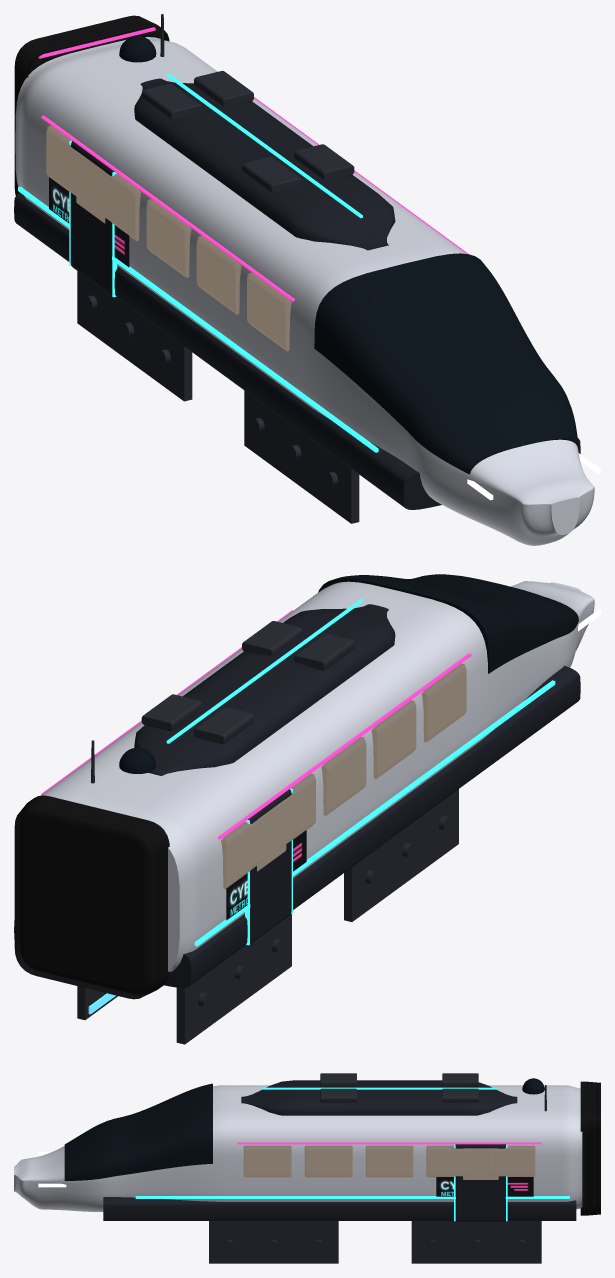
File: train_head.glb
3 views of the same model, one above another, from view 1: azimuth 30°, elevation 25°; view 2: azimuth 150°, elevation 25°; view 3: azimuth 270°, elevation 25° (orthographic). The views are drawn at different scales.
Parts seen in each view (by area): view 1: paint, glass, paint2, gunmetal, window, neon, rubber, neon2, screen_logo; view 2: paint, paint2, rubber, gunmetal, window, glass, neon, neon2, screen_logo; view 3: paint, paint2, gunmetal, glass, window, rubber, neon, neon2, screen_logo.
Boxes of the visible parts, bbox=[...] form: paint: bbox=[15, 37, 594, 545]; glass: bbox=[119, 36, 578, 474]; paint2: bbox=[14, 78, 580, 509]; gunmetal: bbox=[77, 14, 359, 523]; window: bbox=[46, 125, 291, 351]; neon: bbox=[18, 73, 378, 452]; rubber: bbox=[14, 15, 169, 195]; neon2: bbox=[38, 27, 468, 301]; screen_logo: bbox=[49, 177, 129, 267]; paint: bbox=[41, 581, 594, 971]; paint2: bbox=[14, 604, 580, 987]; rubber: bbox=[14, 795, 169, 999]; gunmetal: bbox=[77, 621, 458, 1044]; window: bbox=[221, 663, 466, 889]; glass: bbox=[119, 574, 578, 773]; neon: bbox=[166, 599, 555, 946]; neon2: bbox=[41, 610, 471, 839]; screen_logo: bbox=[226, 830, 306, 920]; paint: bbox=[14, 1085, 582, 1211]; paint2: bbox=[103, 1080, 576, 1221]; gunmetal: bbox=[209, 1073, 546, 1263]; glass: bbox=[64, 1078, 544, 1180]; window: bbox=[243, 1145, 535, 1179]; rubber: bbox=[580, 1081, 600, 1215]; neon: bbox=[135, 1087, 569, 1221]; neon2: bbox=[237, 1142, 541, 1144]; screen_logo: bbox=[436, 1177, 533, 1196].
Bounding box in the file's own units: 3.15 × 4.69 × 14.46.
Materials: 12 (1 with a texture image).
